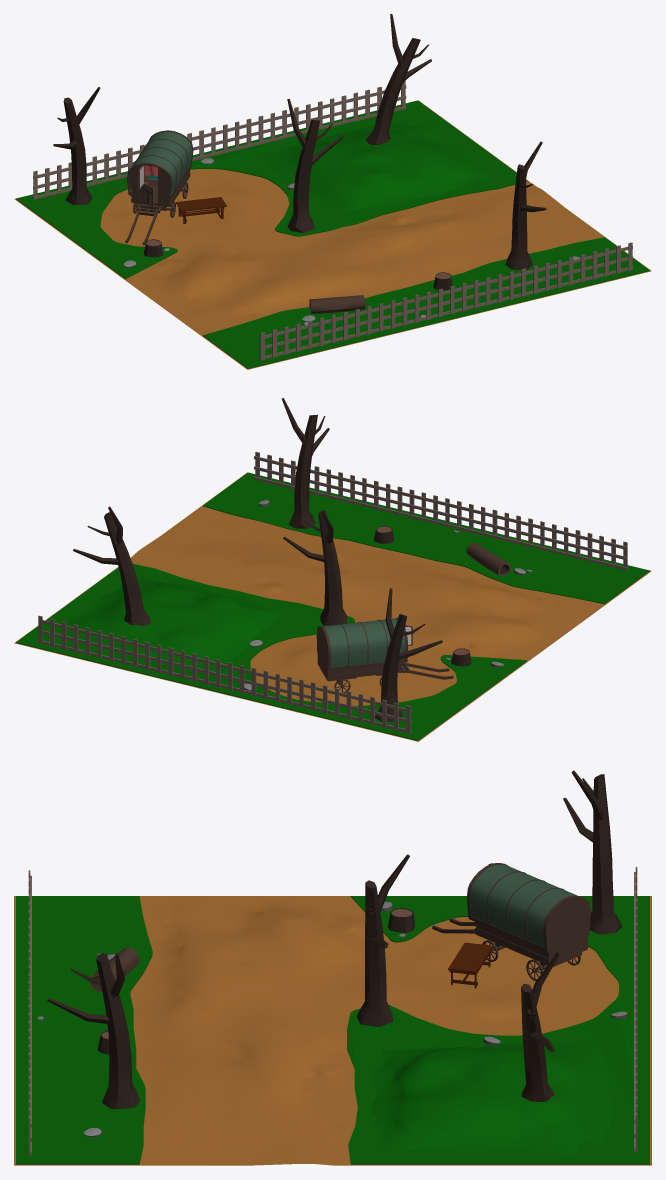
File: level.glb
3 views of the same model, one above another, from view 1: azimuth 30°, elevation 25°; view 2: azimuth 150°, elevation 25°; view 3: azimuth 270°, elevation 25° (orthographic). The views are drawn at different scales.
Visible parts, largest first — view 1: Level; view 2: Level; view 3: Level.
Part boxes in pixels (left/top/right/bottom): Level: left=14, top=14, right=651, bottom=369; Level: left=14, top=398, right=651, bottom=741; Level: left=14, top=770, right=651, bottom=1165.
Size of what is drawn, in the model's own units: 30.72 by 9.22 by 30.71.
Materials: 2 (1 with a texture image).
